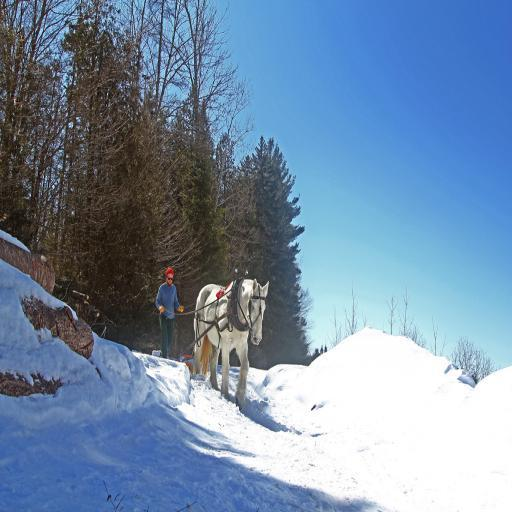horse: (192, 278, 270, 408)
